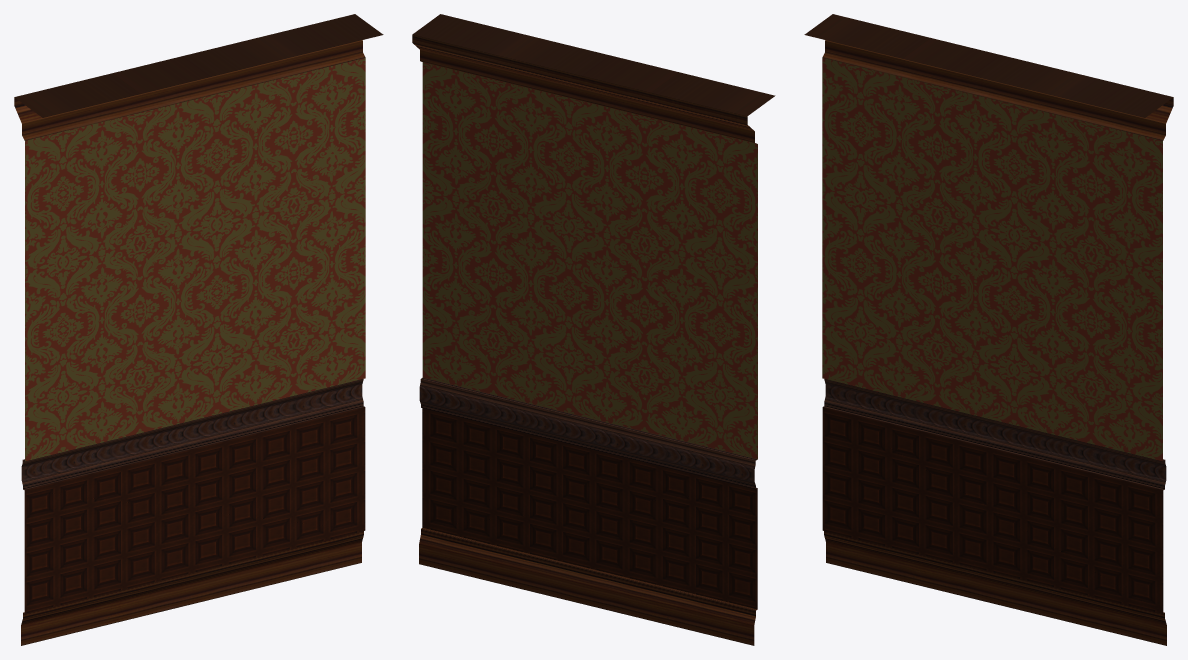
The model's file is Wall1_Narrow.fbx.
3 views of the same model, side by side, from view 1: azimuth 30°, elevation 25°; view 2: azimuth 150°, elevation 25°; view 3: azimuth 330°, elevation 25° (orthographic).
Visible parts, largest first — view 1: WallSection1Med.001; view 2: WallSection1Med.001; view 3: WallSection1Med.001.
Boxes of the visible parts, left/top/right/bottom form: WallSection1Med.001: left=14, top=14, right=383, bottom=645; WallSection1Med.001: left=412, top=14, right=775, bottom=645; WallSection1Med.001: left=804, top=14, right=1173, bottom=645.
Size of the model in its own units: 185 by 281 by 26.8.
